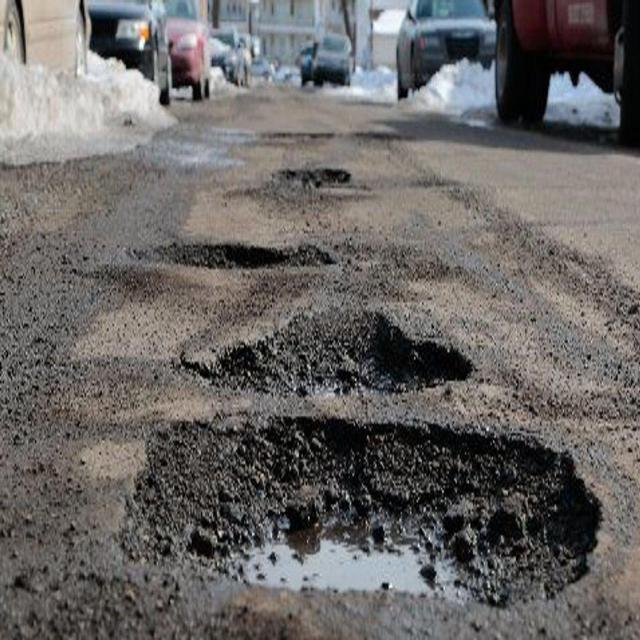Pothole: (120, 415, 604, 608), (177, 311, 474, 394), (132, 244, 336, 270), (275, 169, 351, 182)
